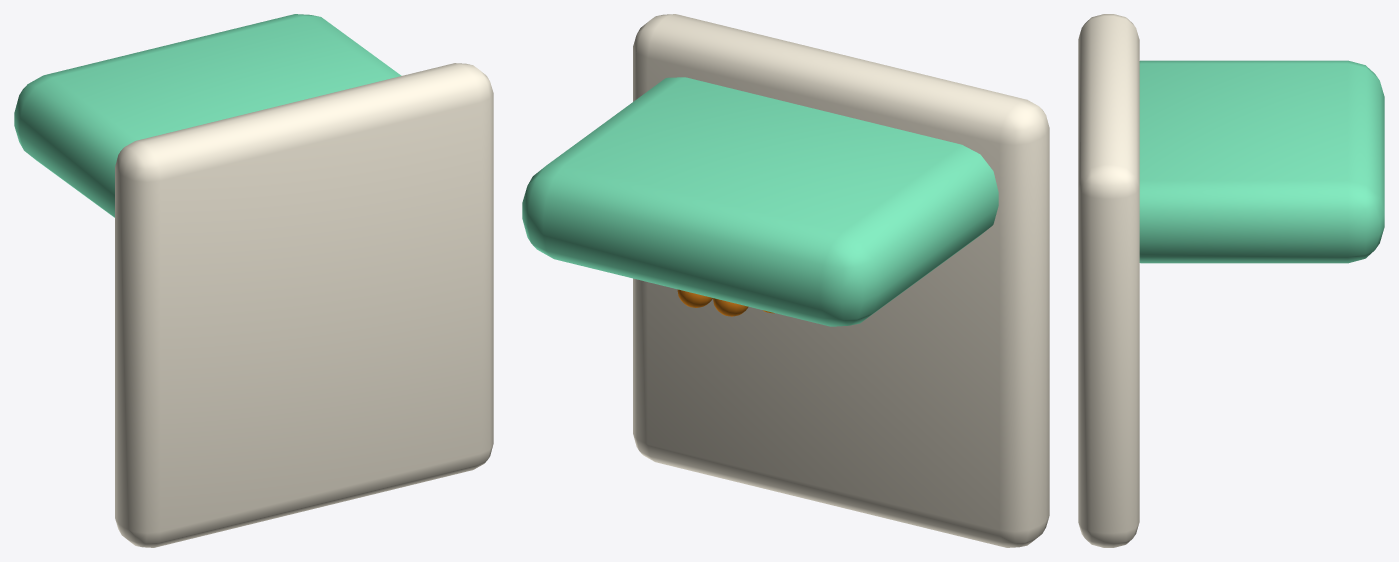
The model's file is ToyMouse_Premium.fbx.
3 views of the same model, side by side, from view 1: azimuth 30°, elevation 25°; view 2: azimuth 150°, elevation 25°; view 3: azimuth 270°, elevation 25° (orthographic). The views are drawn at different scales.
Visible parts, largest first — view 1: ToyMouse_Body; view 2: ToyMouse_Body; view 3: ToyMouse_Body.
Boxes of the visible parts, bbox=[...] form: ToyMouse_Body: bbox=[14, 14, 493, 547]; ToyMouse_Body: bbox=[522, 14, 1049, 547]; ToyMouse_Body: bbox=[1078, 14, 1384, 547].
Bounding box in the file's own units: 0.4268 × 0.4454 × 0.3247.
